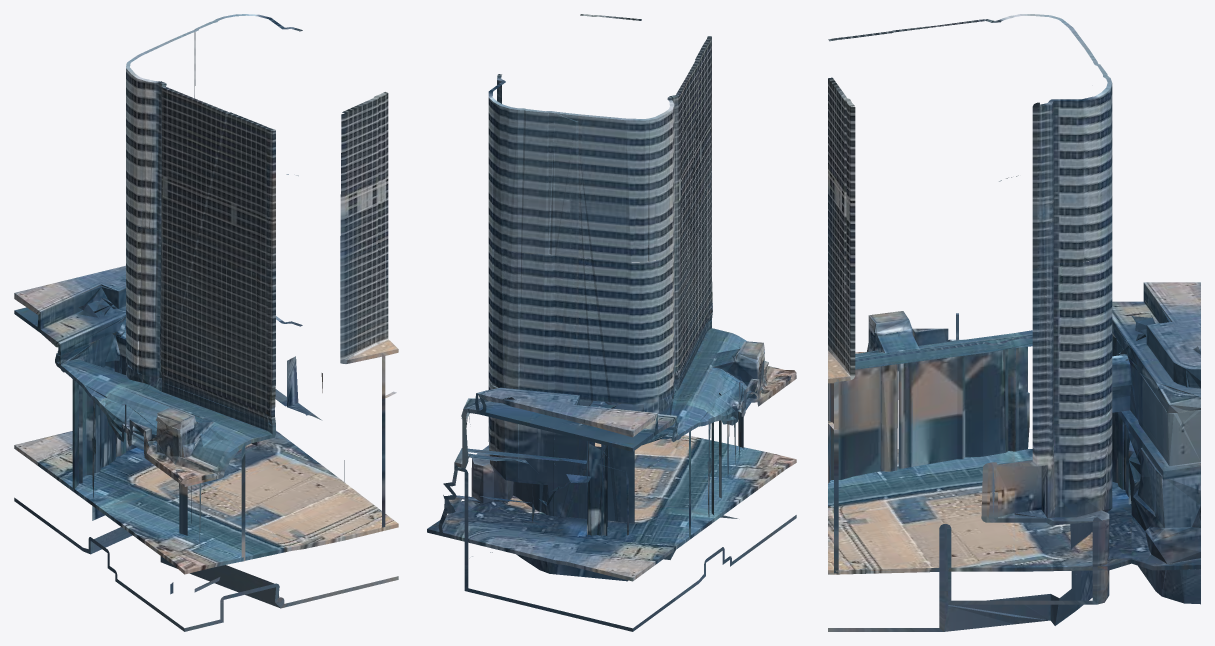
The model's file is chunk_-1_3.glb.
The picture shows the model from 3 angles, left to right: view 1: azimuth 30°, elevation 25°; view 2: azimuth 150°, elevation 25°; view 3: azimuth 270°, elevation 25°; orthographic projection. The views are drawn at different scales.
Visible parts, largest first — view 1: hero-chunk; view 2: hero-chunk; view 3: hero-chunk.
Part boxes in pixels (x1,y1,x2,y2): hero-chunk: [14, 14, 398, 631]; hero-chunk: [427, 14, 796, 631]; hero-chunk: [828, 14, 1200, 631].
Size of the model in its own units: 56.66 by 120 by 76.33.
4 materials, 4 textured.
